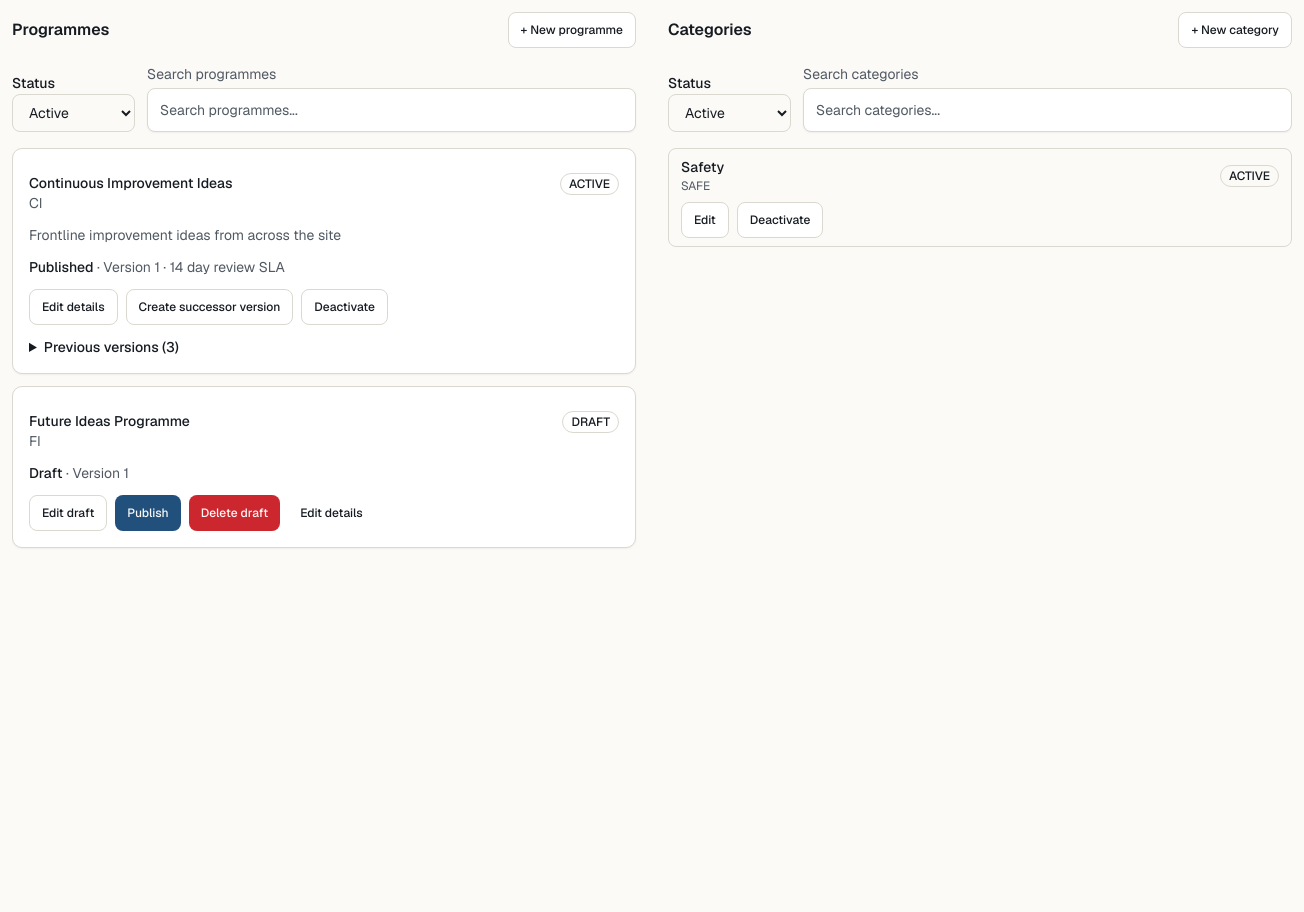
Test: ProgrammeManagement administration UX › shows all programmes when all filter is selected
This screenshot has width=1304, height=912.
Step 1. Select "All" in the dropdown labelled "Status" below "Search programmes" → x=74, y=113, box [12, 94, 135, 132]
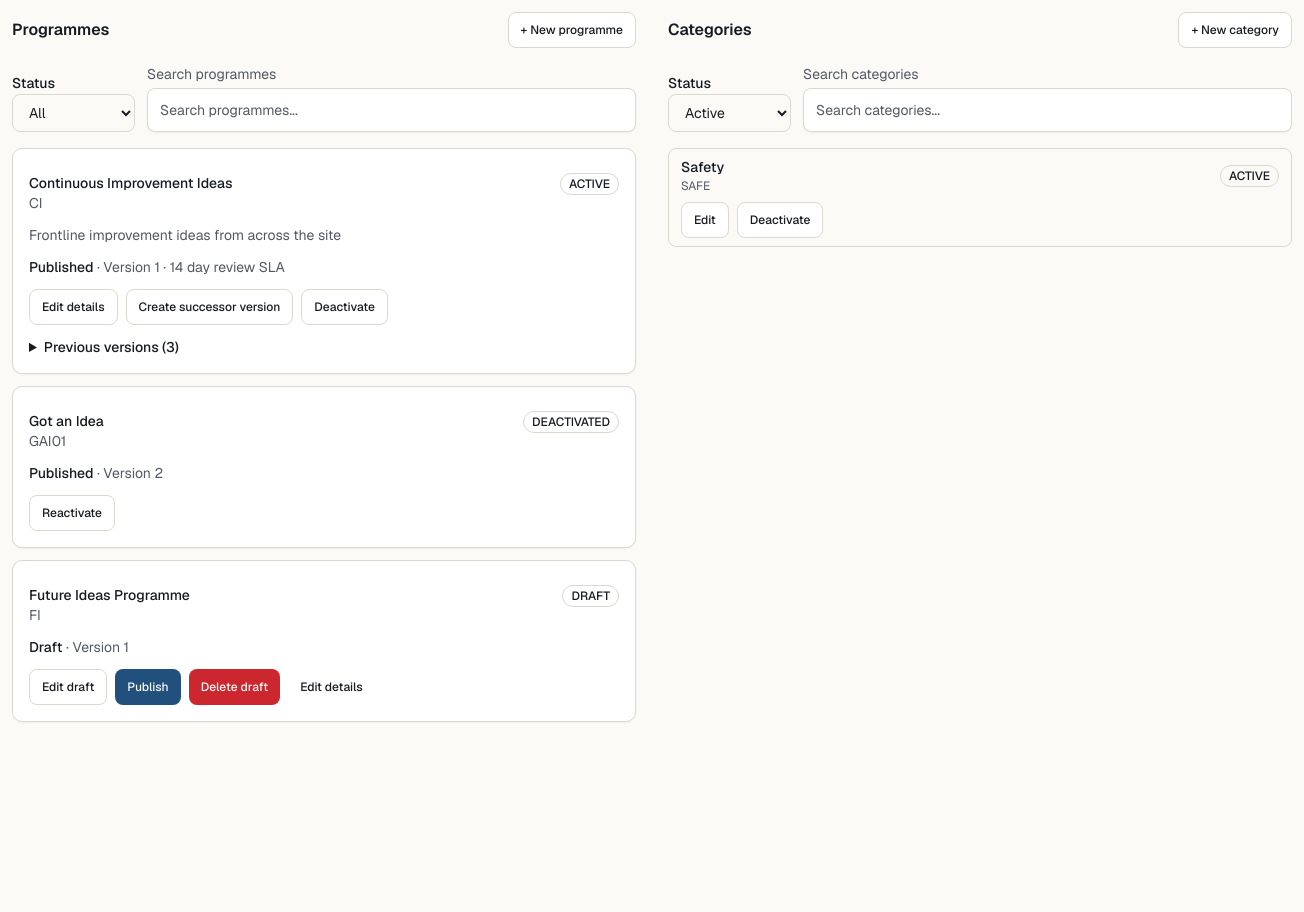
Check: the element with test id "programme-card-prog-active" is shown, box [12, 148, 636, 374]
Check: the element with test id "programme-card-prog-deactivated" is shown, box [12, 386, 636, 548]
